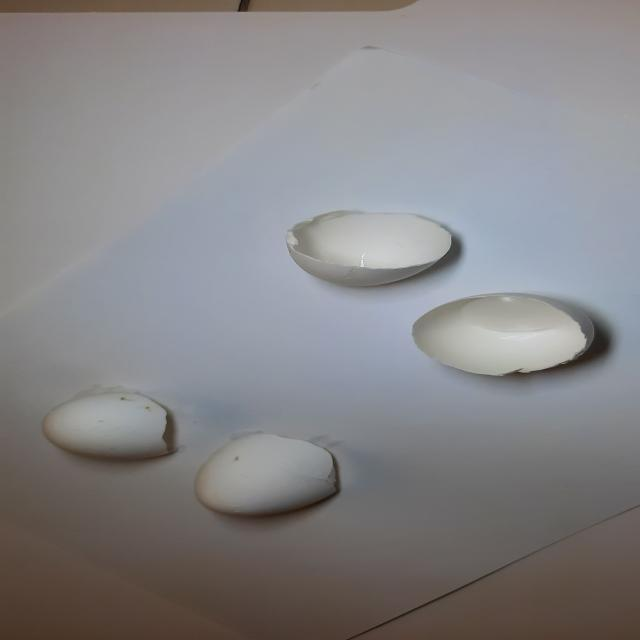egg shell: (403, 290, 608, 380), (274, 204, 466, 294), (185, 428, 348, 520), (36, 388, 180, 466)
